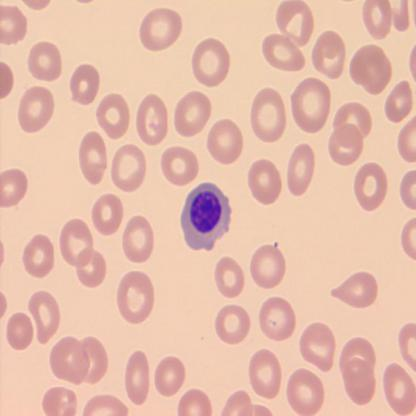NRC: (179, 180, 232, 252)
